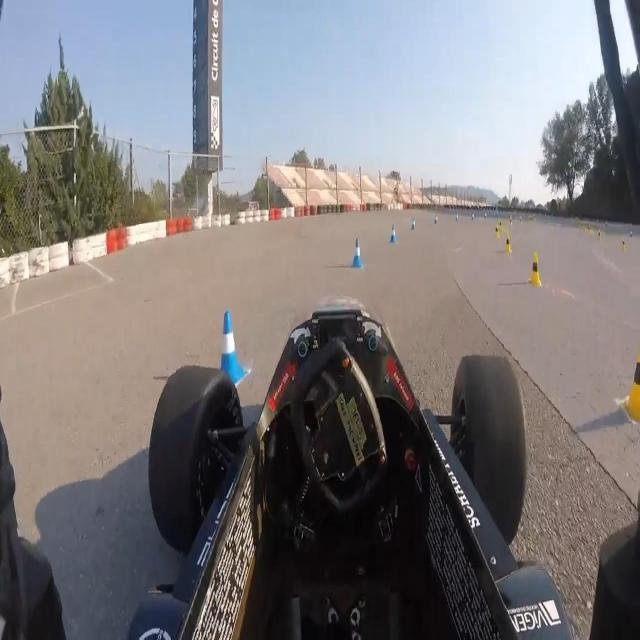blue_cone: (210, 310, 248, 389), (349, 238, 364, 270), (390, 223, 398, 246), (410, 218, 416, 232), (434, 214, 438, 225), (456, 212, 460, 222), (471, 212, 475, 221), (484, 212, 487, 220)
yellow_cone: (622, 348, 640, 423), (528, 250, 542, 288), (505, 232, 512, 255), (494, 223, 500, 241), (620, 239, 626, 253), (498, 220, 504, 232), (598, 230, 602, 242), (509, 217, 513, 228)
